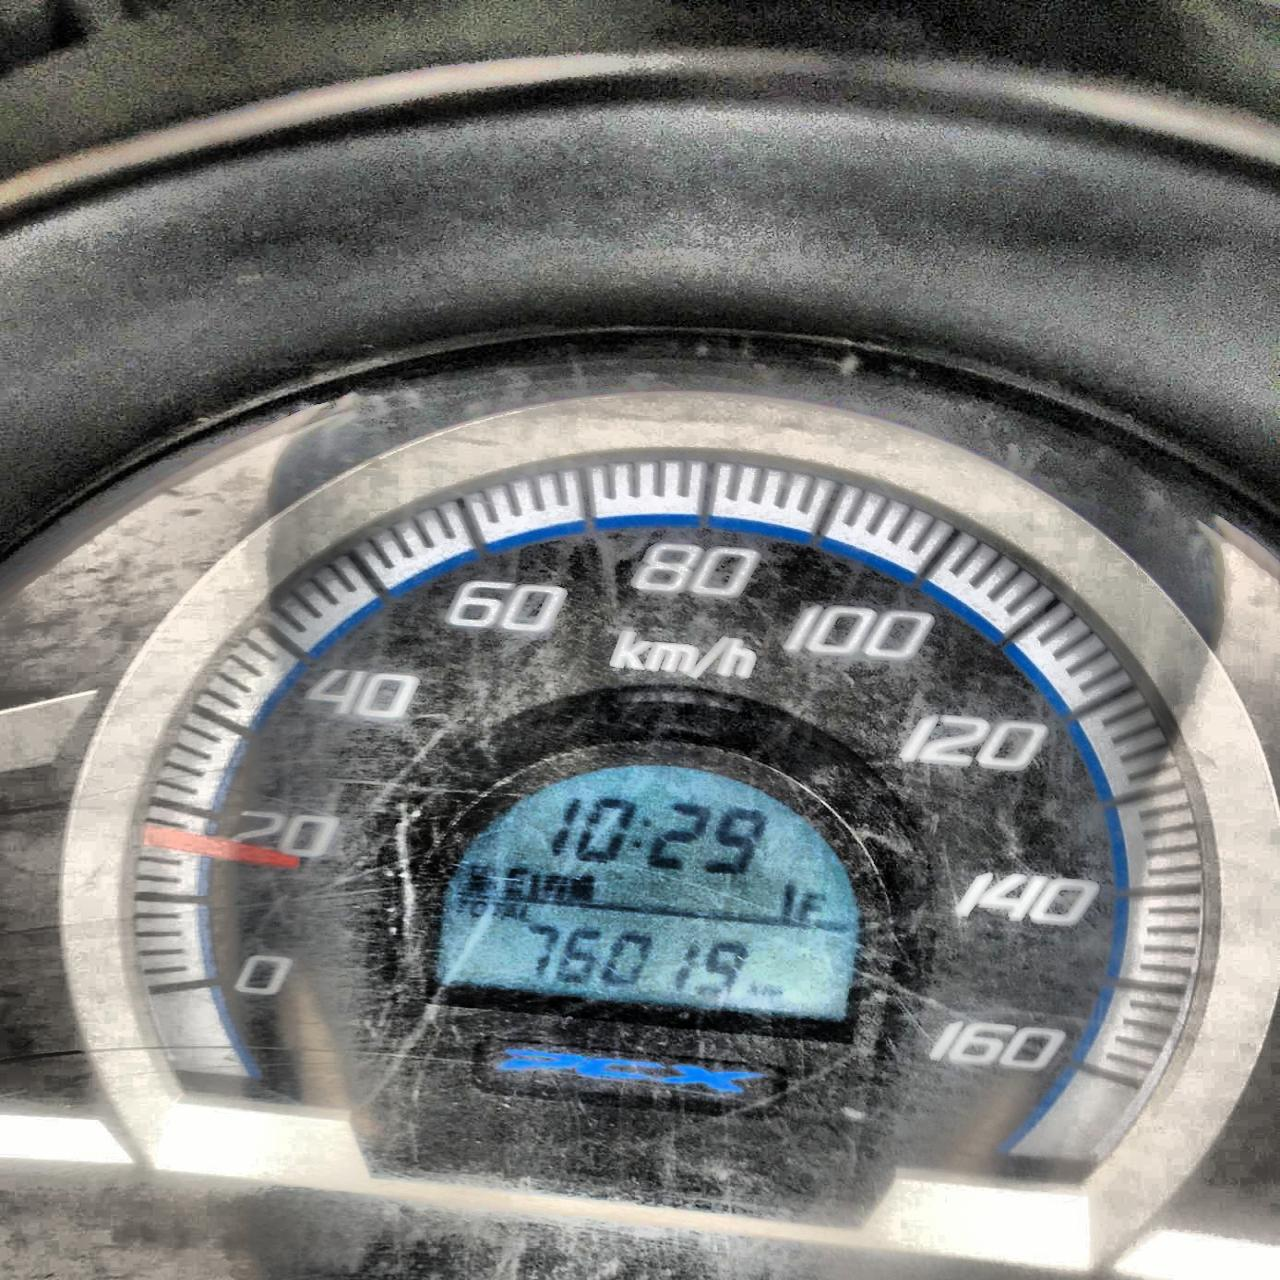0: (581, 794, 634, 863), (606, 928, 655, 987)
1: (668, 932, 701, 998), (549, 789, 580, 856)
2: (649, 795, 708, 876)
6: (557, 921, 601, 986)
7: (523, 922, 561, 976)
9: (707, 801, 758, 876), (696, 935, 748, 1007)
X: (796, 888, 826, 920), (501, 863, 527, 893), (634, 812, 651, 855), (502, 899, 518, 922), (486, 898, 501, 925), (518, 900, 533, 924), (469, 898, 488, 917), (451, 896, 469, 913)
odometer: (394, 720, 905, 1036)
